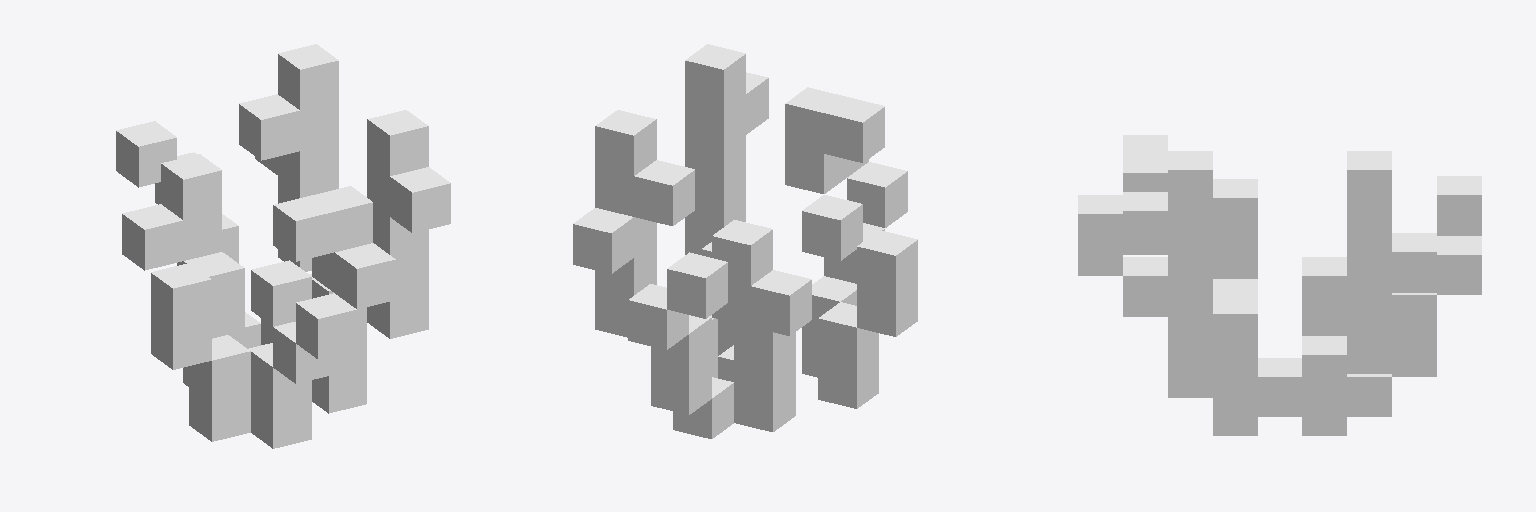
Rendered from Potato_2.obj.
3 views of the same model, side by side, from view 1: azimuth 30°, elevation 25°; view 2: azimuth 150°, elevation 25°; view 3: azimuth 270°, elevation 25° (orthographic).
Visible parts, largest first — view 1: object 1; view 2: object 1; view 3: object 1.
Boxes of the visible parts, box(x1,y1,x2,y2) form: object 1: box(116, 44, 450, 448); object 1: box(573, 44, 917, 438); object 1: box(1078, 135, 1481, 435).
Bounding box in the file's own units: 0.6 × 0.7 × 0.9.